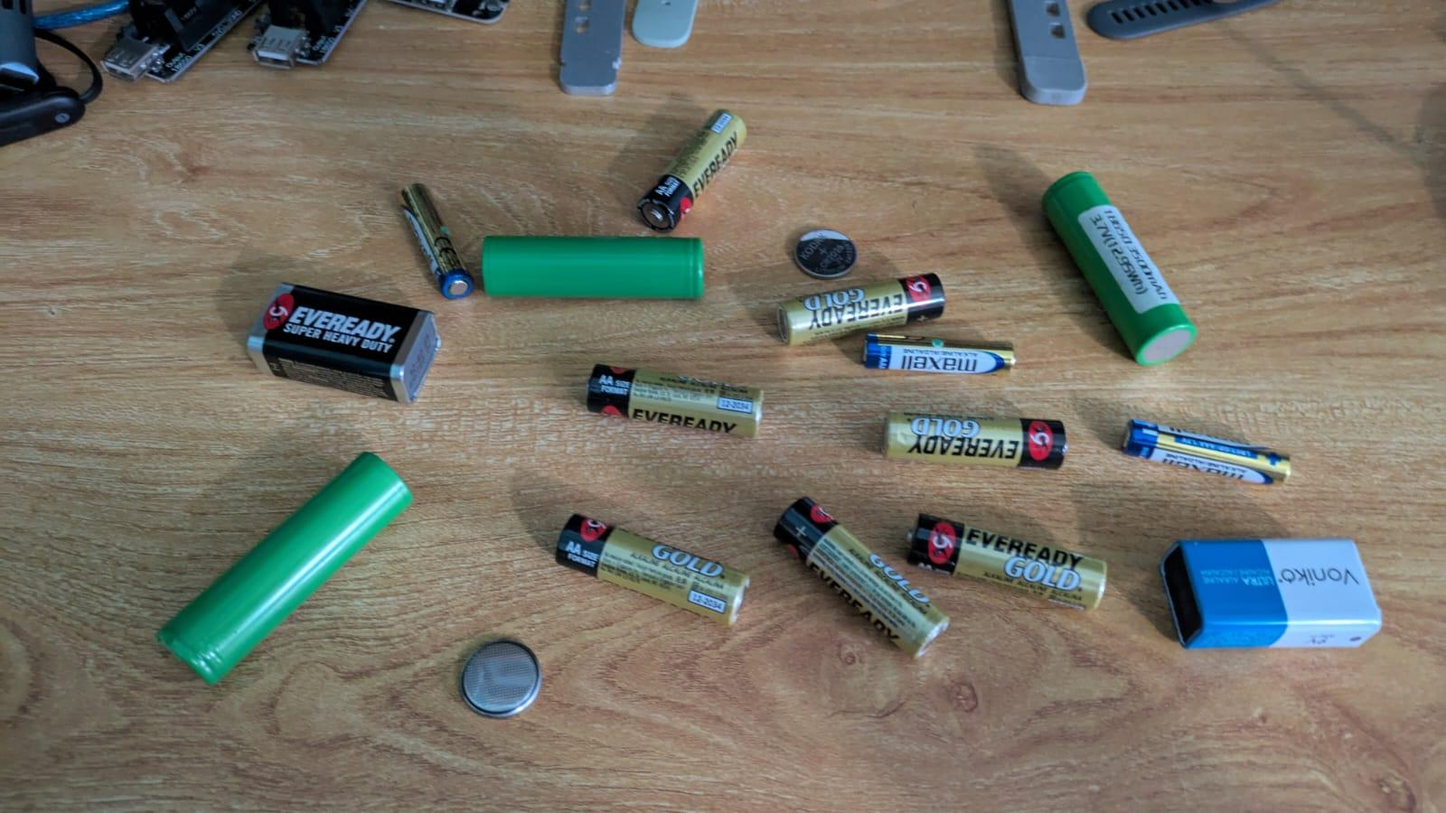9V: (1160, 523, 1385, 661), (243, 272, 448, 416)
AA: (773, 476, 963, 687), (536, 485, 766, 642), (896, 488, 1123, 636), (621, 83, 758, 253), (576, 350, 772, 460), (871, 404, 1086, 485), (761, 270, 958, 352)
AAA: (1118, 406, 1304, 507), (381, 171, 505, 311), (862, 323, 1027, 392)
COIN: (451, 628, 553, 729), (786, 226, 864, 282)
